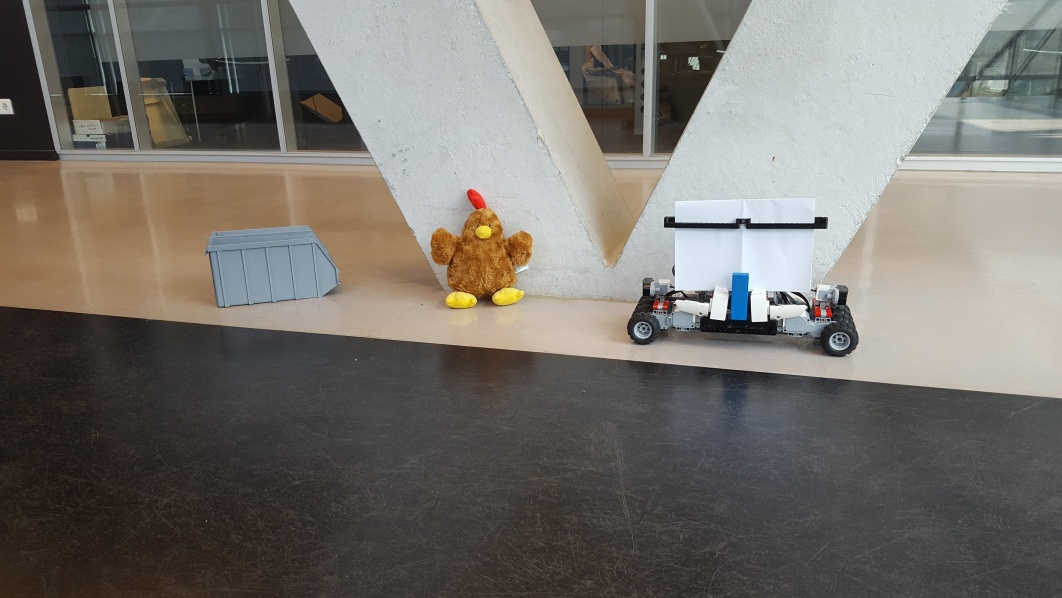beam: (731, 271, 748, 322)
chicken: (430, 189, 535, 310)
tray: (203, 223, 338, 311)
